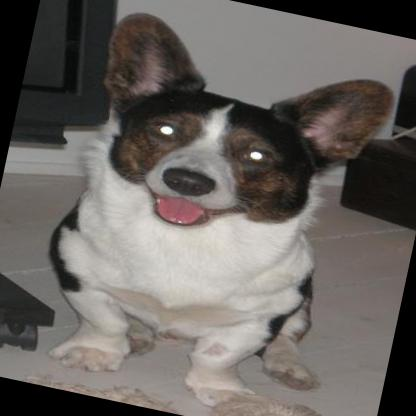Cardigan: (15, 0, 405, 416)
